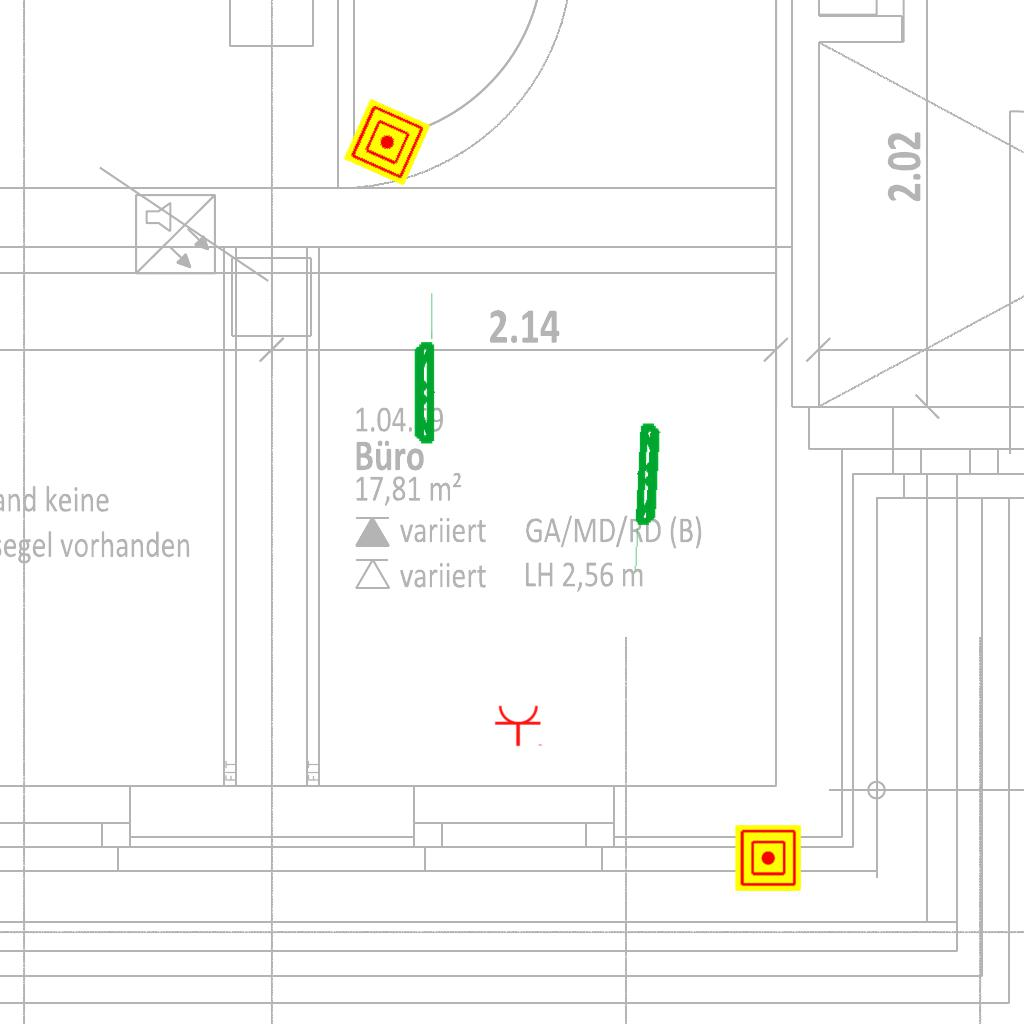NAM-Nichtautomatischer_Melder: (343, 98, 431, 186), (735, 825, 801, 891)
Schukosteckdose_einfach: (494, 704, 544, 747)
Sicherheitsleuchte_Wandeinbau: (630, 419, 665, 580), (411, 288, 436, 447)
